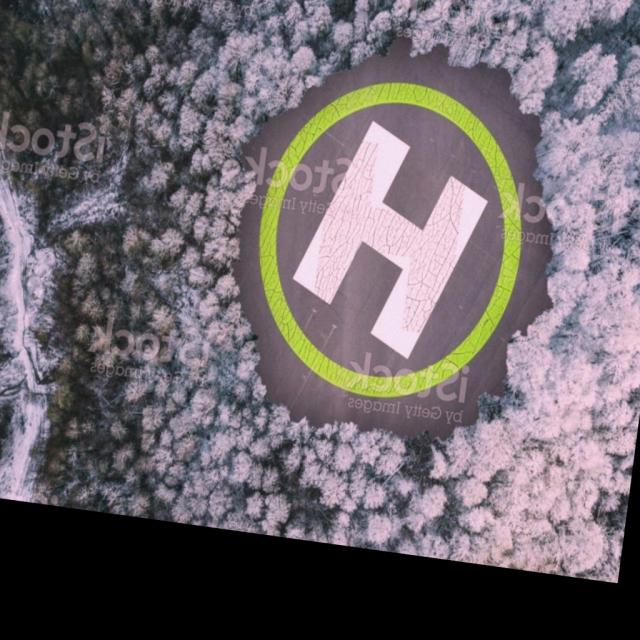helipad: (252, 75, 526, 400)
